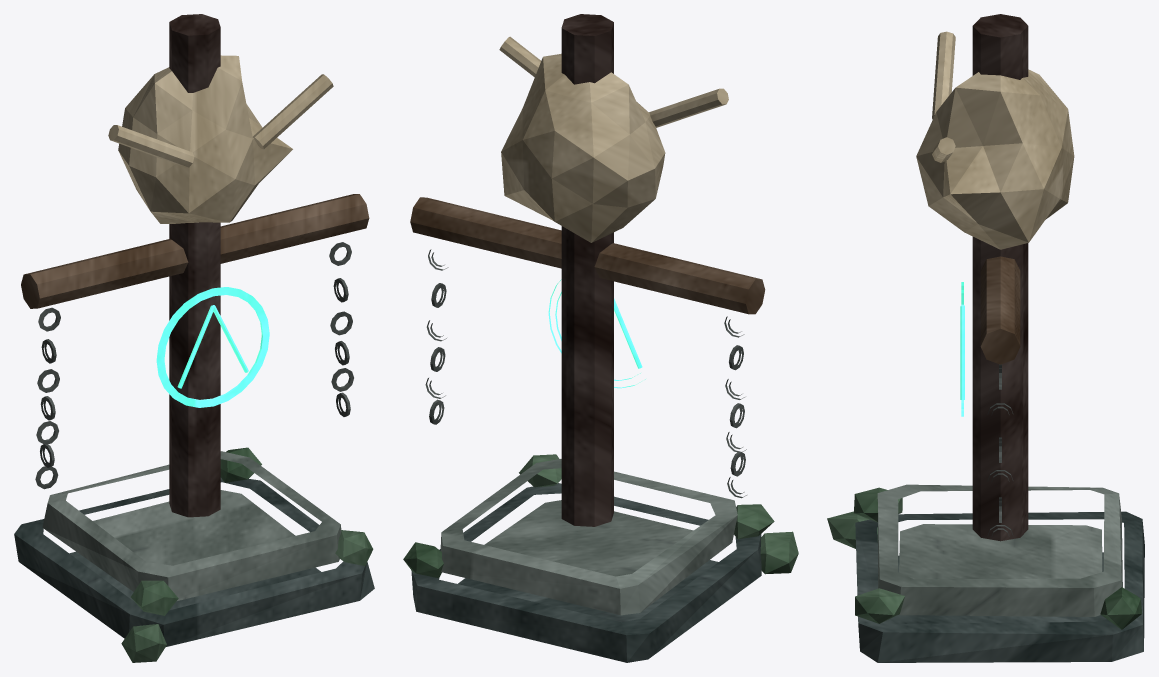
File: 0513_effigy_13.glb
The picture shows the model from 3 angles, left to right: view 1: azimuth 30°, elevation 25°; view 2: azimuth 150°, elevation 25°; view 3: azimuth 270°, elevation 25°; orthographic projection. The views are drawn at different scales.
Parts seen in each view (by area): view 1: stone, bone, wood_dark, stone_dark, wood, moss, glow, iron; view 2: bone, stone, stone_dark, wood_dark, wood, moss, iron, glow; view 3: stone, bone, stone_dark, wood_dark, moss, wood, glow, iron.
Part boxes in pixels (box(x1,y1,x2,y2)): stone: box(42, 451, 341, 600); bone: box(108, 55, 333, 223); wood_dark: box(169, 14, 220, 517); stone_dark: box(14, 477, 374, 646); wood: box(21, 194, 369, 308); moss: box(121, 447, 373, 662); glow: box(156, 287, 269, 407); iron: box(35, 242, 353, 489); bone: box(499, 36, 728, 242); stone: box(440, 459, 737, 615); stone_dark: box(411, 483, 761, 662); wood_dark: box(561, 14, 613, 526); wood: box(410, 197, 765, 314); moss: box(403, 454, 798, 578); iron: box(425, 249, 746, 498); glow: box(548, 279, 645, 388); stone: box(877, 484, 1122, 616); bone: box(916, 31, 1074, 249); stone_dark: box(855, 511, 1144, 662); wood_dark: box(972, 14, 1028, 541); moss: box(827, 487, 1142, 629); wood: box(980, 256, 1020, 364); glow: box(960, 282, 964, 416); iron: box(987, 364, 1013, 536).
Bounding box in the file's own units: 2 × 3.23 × 1.6.
Materials: 8 (8 with a texture image).
